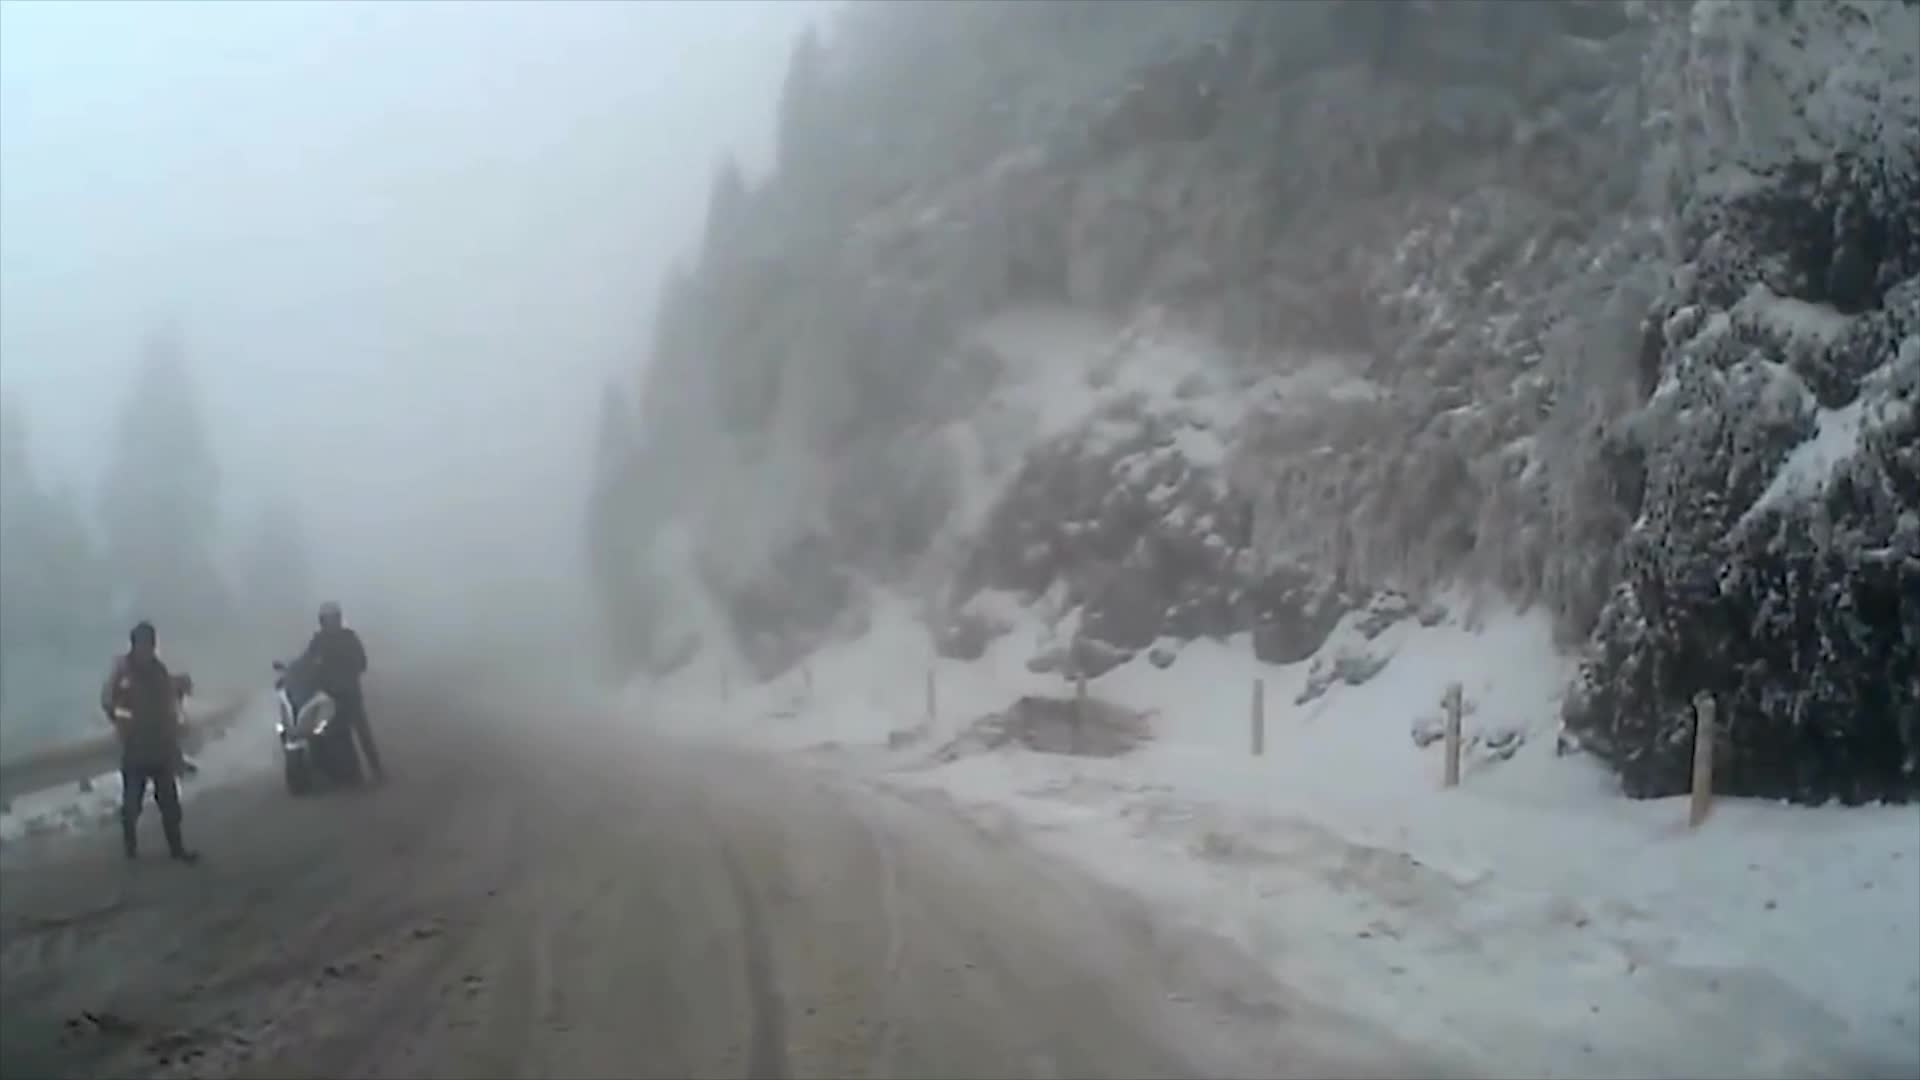pedestrian: (102, 623, 204, 867), (290, 603, 395, 804)
